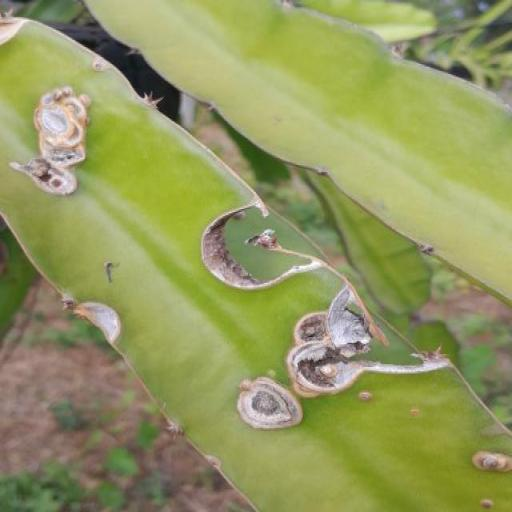stemcanker: (355, 383, 376, 431), (400, 399, 429, 433)
